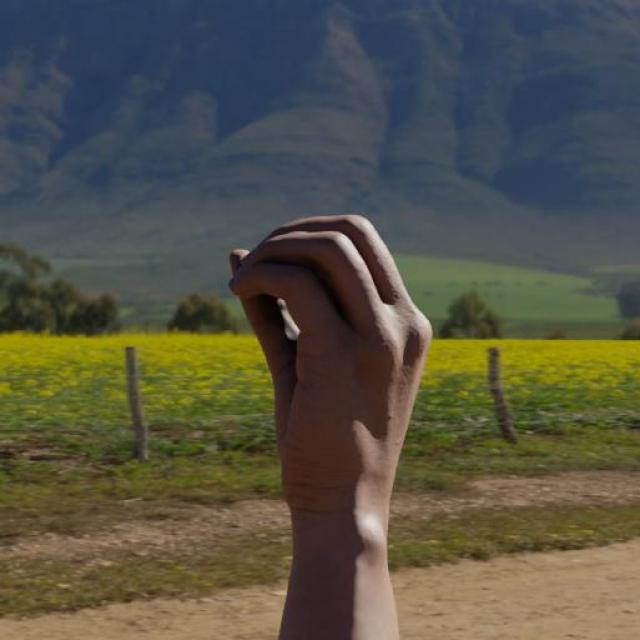O: (228, 213, 441, 522)
